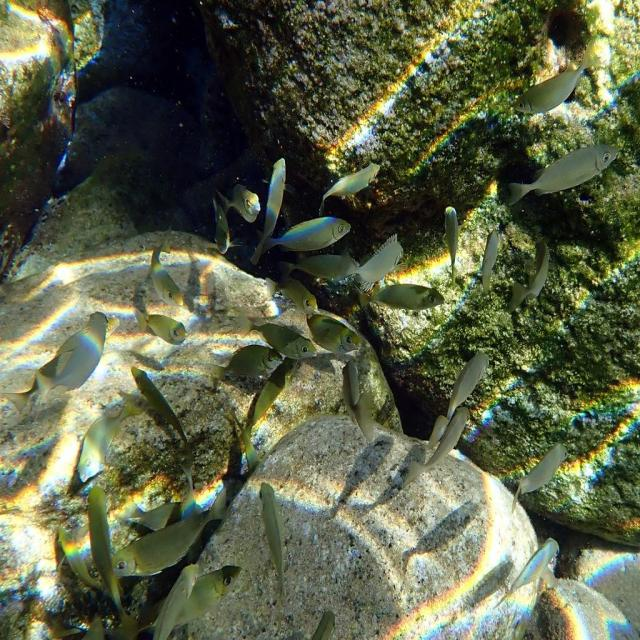Sokar Baligi: (503, 132, 629, 212), (510, 36, 609, 124), (253, 474, 296, 613), (321, 155, 386, 208)
